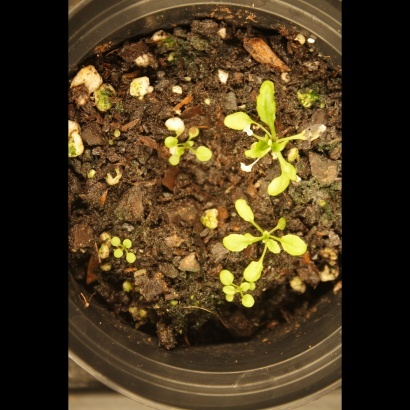leaf: (253, 74, 290, 130), (236, 134, 272, 170), (219, 229, 262, 257), (226, 190, 260, 224), (221, 105, 259, 135), (276, 230, 313, 258), (297, 118, 334, 146), (263, 171, 291, 202), (245, 256, 268, 292), (275, 155, 304, 180), (126, 254, 149, 277), (125, 227, 148, 250), (98, 227, 121, 250), (101, 250, 124, 273), (159, 153, 182, 176), (157, 130, 180, 153), (182, 118, 205, 141), (193, 144, 216, 167), (215, 263, 238, 286), (239, 293, 262, 316), (213, 286, 236, 309), (240, 277, 263, 300), (265, 214, 288, 237)
